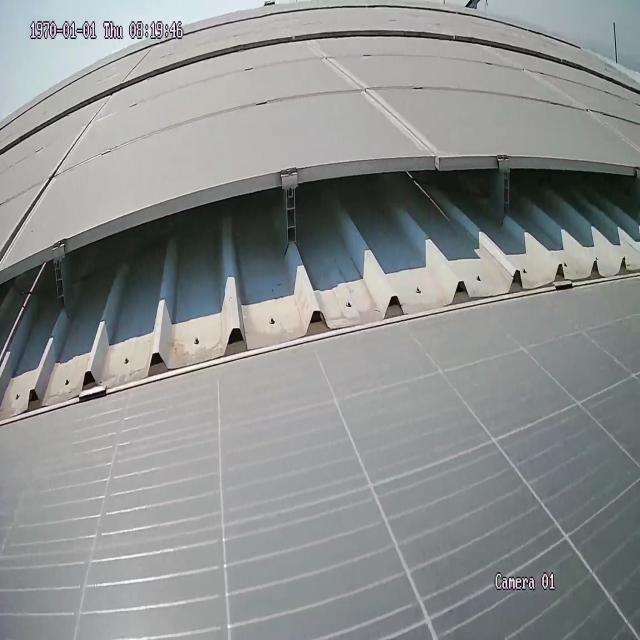interior panel: (0, 102, 109, 253), (314, 50, 436, 151)
outher panel: (2, 161, 640, 427)
